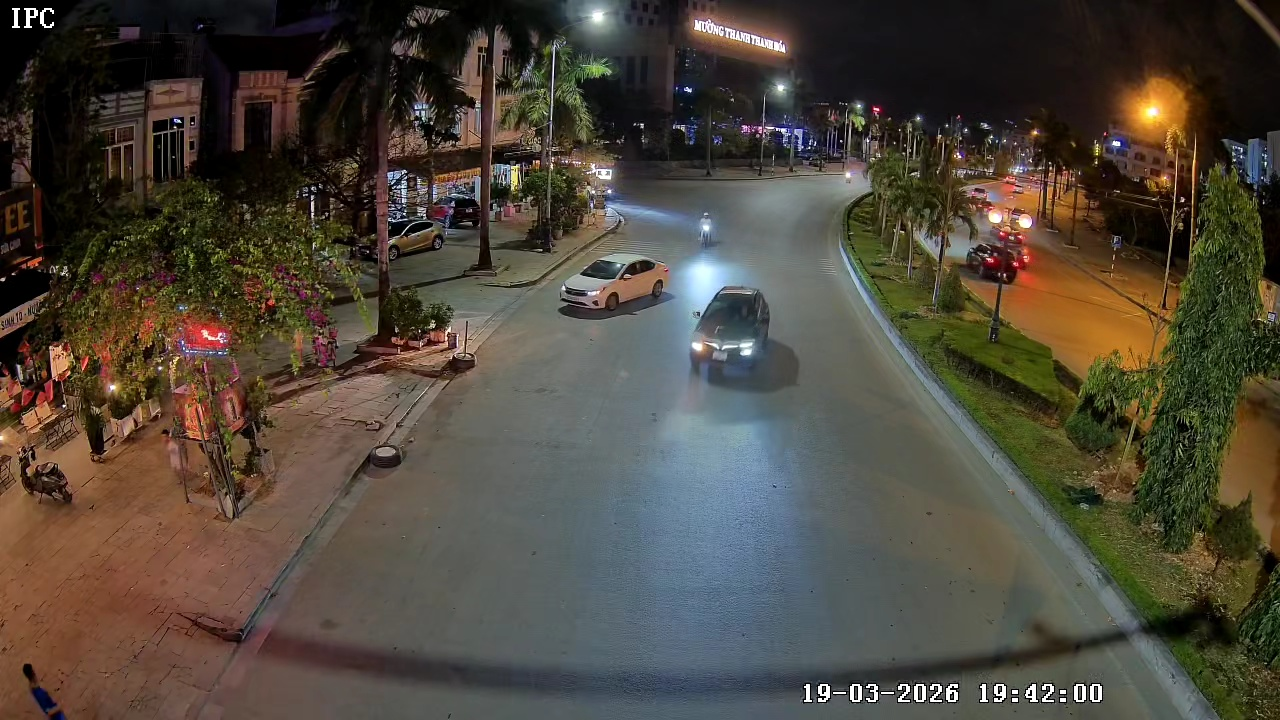car: (688, 283, 798, 384), (556, 252, 670, 316)
motorbike: (15, 438, 76, 507), (696, 210, 720, 249)
